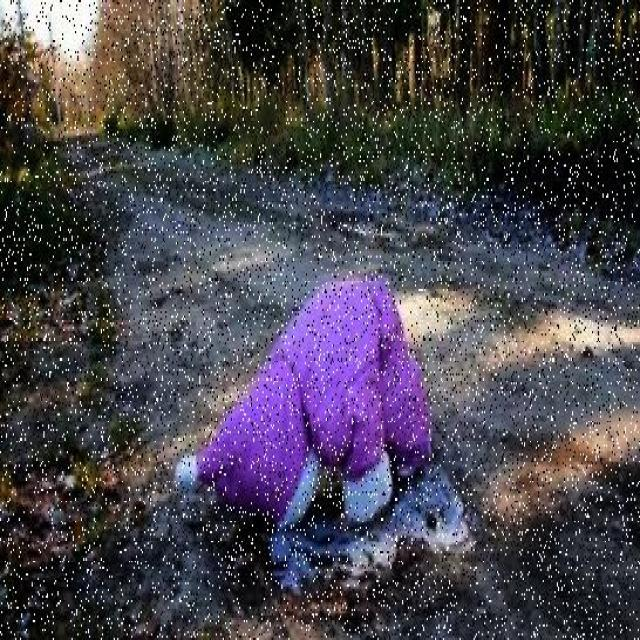fall: (199, 284, 430, 528)
